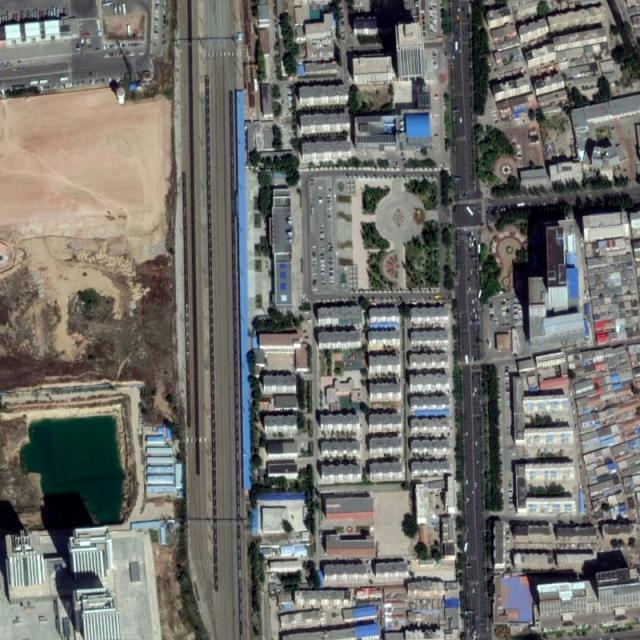vehicle: (466, 206, 474, 216), (517, 202, 526, 207), (465, 355, 469, 364), (60, 77, 69, 81), (30, 81, 38, 85), (464, 542, 467, 552), (455, 42, 458, 51), (478, 245, 481, 254), (39, 80, 48, 83)
